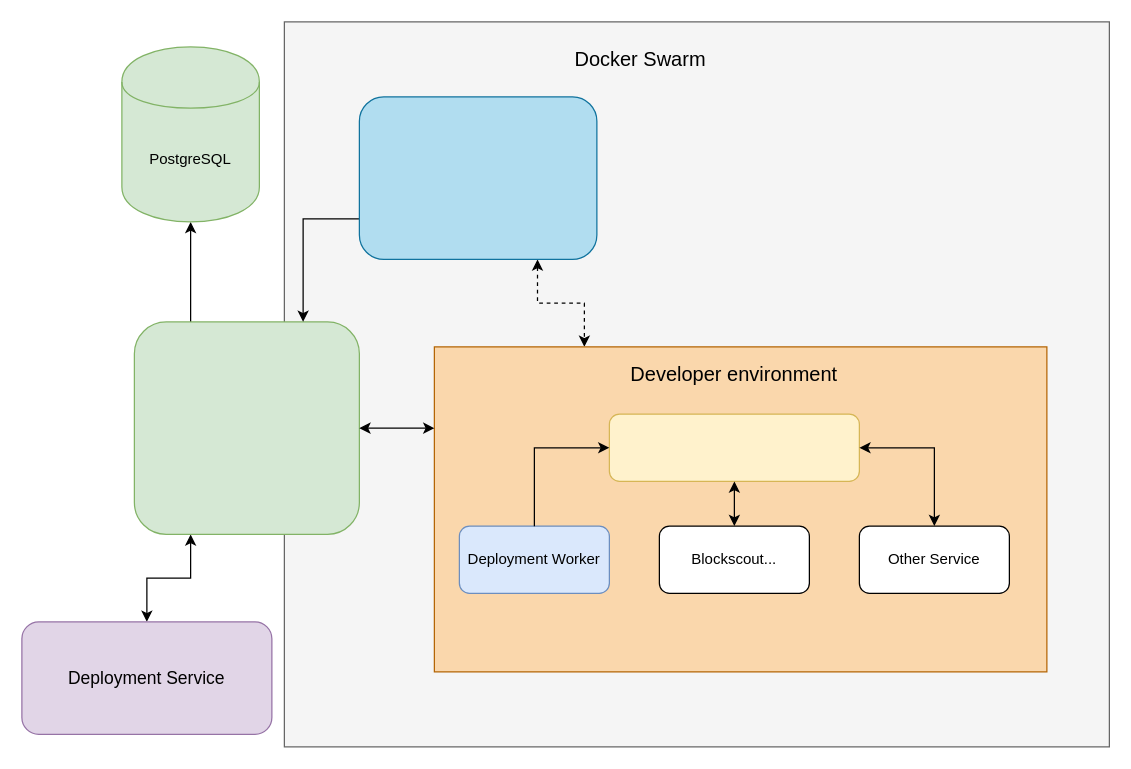
This 1131x769 diagram has some shape labels left out. The shapes that lost their labels are listed below. From the top down, each one's box as (x1, y1, x2, y2) in pixels, then its label:
(358, 96, 597, 259): NATS.io
(133, 321, 359, 534): STAXX
(608, 413, 859, 481): any EVM
